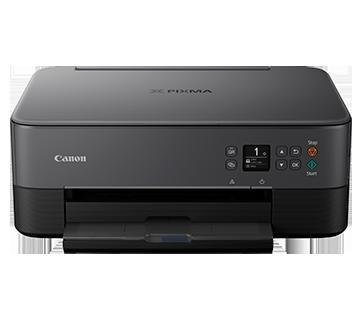Printer: (9, 65, 351, 253)
